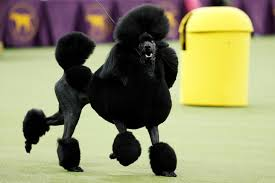Poodle: (30, 3, 207, 181)
